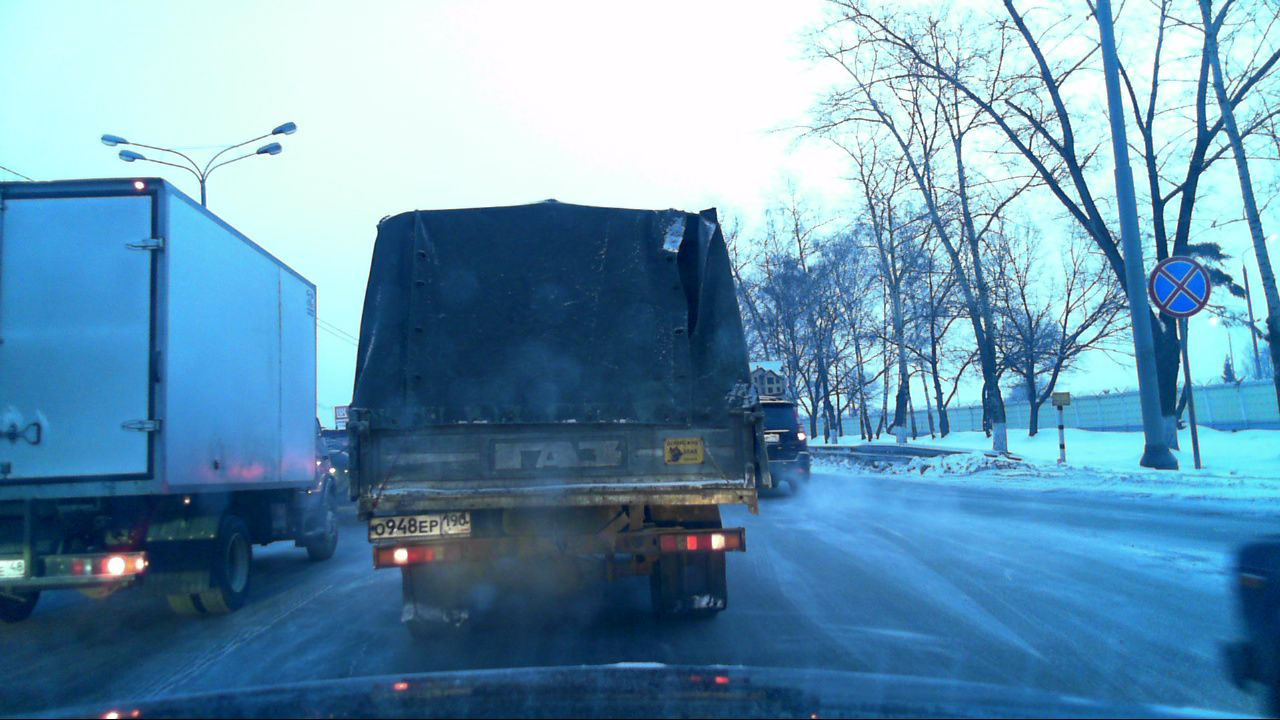No Parking: (1149, 258, 1210, 320)
